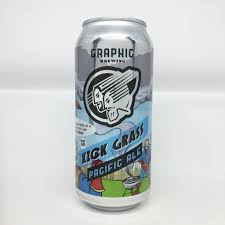can: (74, 15, 153, 210)
